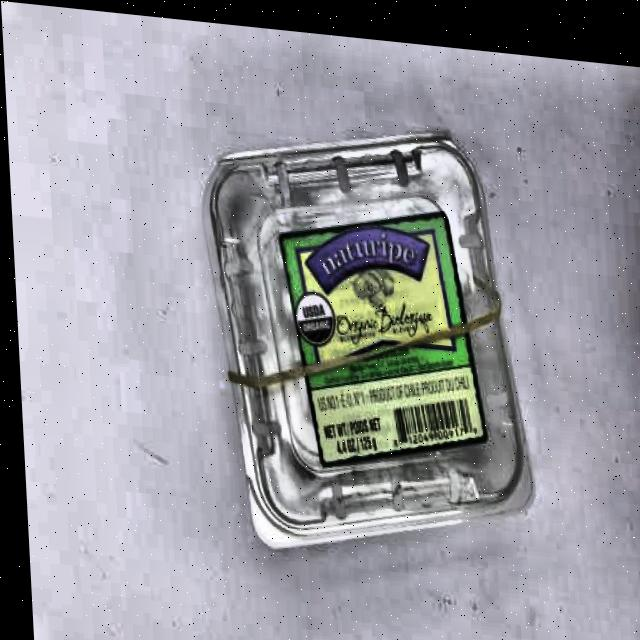plastic: (197, 107, 536, 576)
